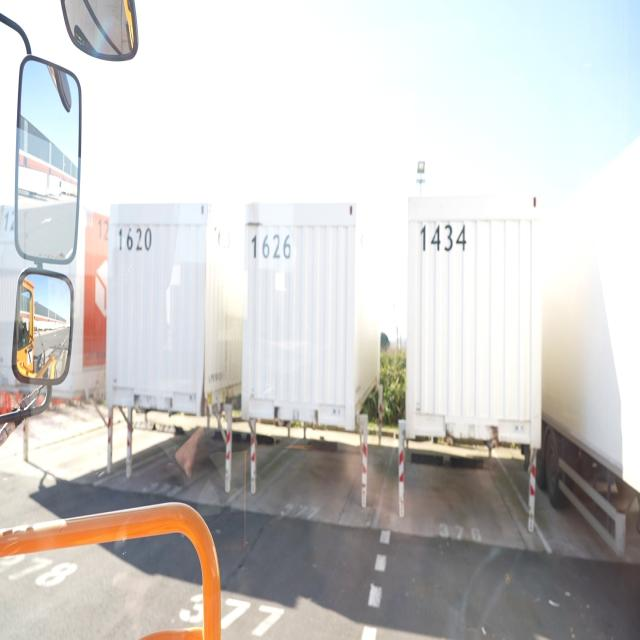Code: (419, 217, 469, 256), (249, 230, 294, 262), (117, 220, 152, 255)
